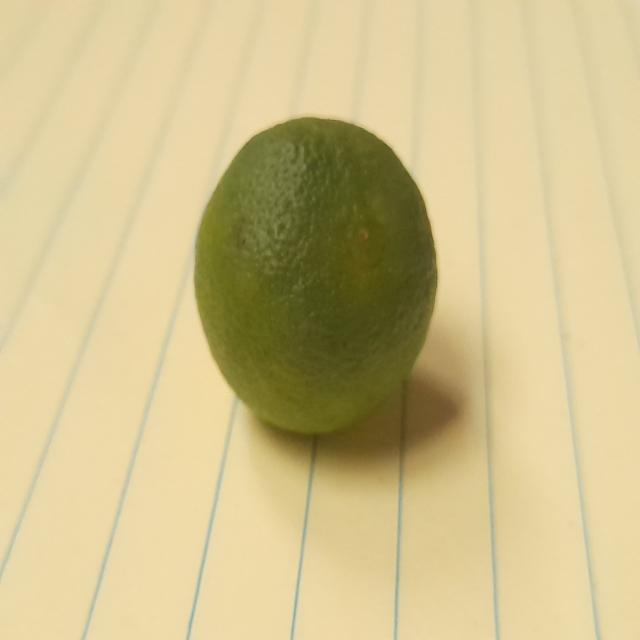heathy: (182, 110, 444, 448)
